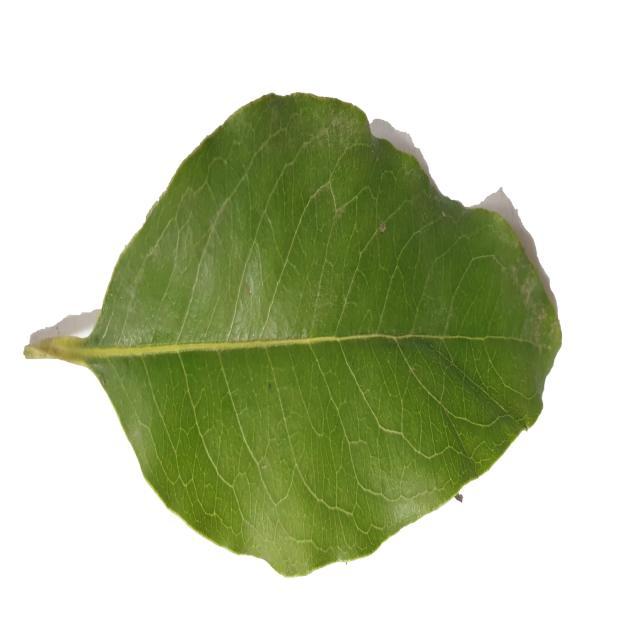Medicinal-Sandalwood: (24, 88, 562, 580)
